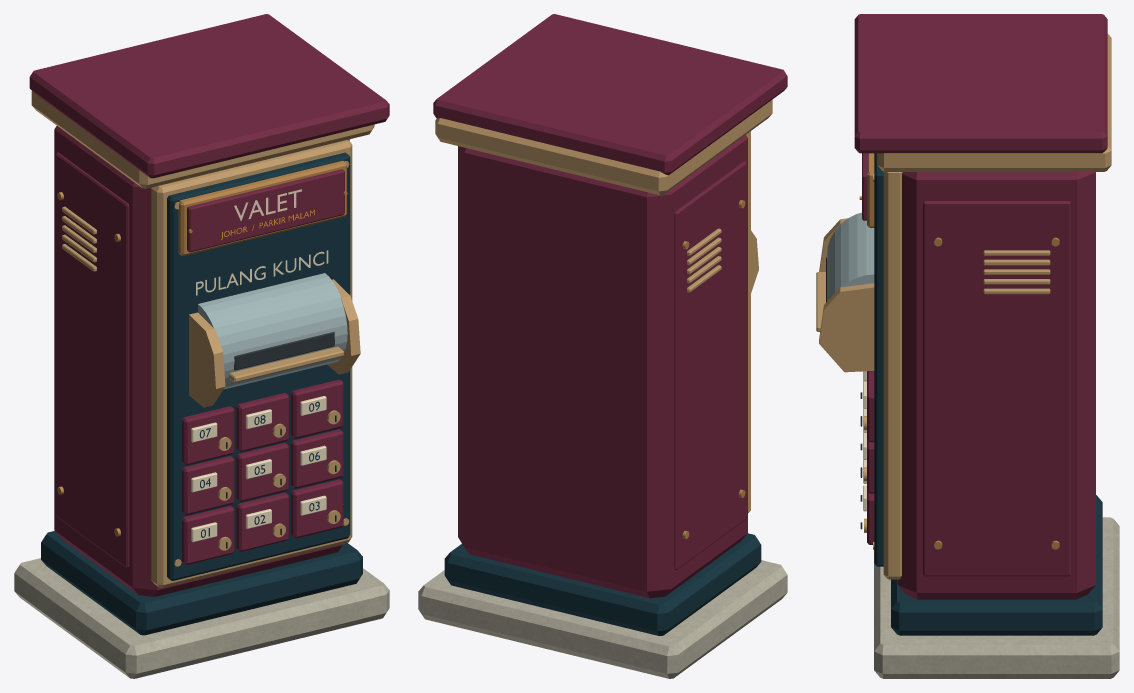
3 renders of one model, left to right at view 1: azimuth 30°, elevation 25°; view 2: azimuth 150°, elevation 25°; view 3: azimuth 270°, elevation 25°, orthographic. The views are drawn at different scales.
Parts seen in each view (by area): view 1: Rain hood, Side access skins, Inset face, Key pickup doors, Car park installation plinth, Tamper resistant trunk, Vault jamb base, Framed front door, Rotary key drop, Enamel plaque field, Drip moulding, Bronze hopper cheeks (+7 smaller); view 2: Tamper resistant trunk, Rain hood, Side access skins, Car park installation plinth, Vault jamb base, Drip moulding, Side gills, Framed front door; view 3: Side access skins, Rain hood, Tamper resistant trunk, Car park installation plinth, Vault jamb base, Framed front door, Drip moulding, Bronze hopper cheeks, Inset face, Rotary key drop, Side gills, Key pickup doors (+3 smaller).
Part boxes in pixels (x1,y1,x2,y2): Rain hood: (29, 14, 389, 178); Side access skins: (55, 152, 129, 568); Inset face: (167, 152, 350, 580); Key pickup doors: (182, 379, 343, 564); Car park installation plinth: (14, 558, 389, 678); Tamper resistant trunk: (54, 126, 349, 596); Vault jamb base: (41, 531, 362, 635); Framed front door: (151, 140, 352, 587); Rotary key drop: (198, 273, 347, 389); Enamel plaque field: (187, 169, 344, 252); Drip moulding: (31, 91, 374, 188); Bronze hopper cheeks: (189, 279, 360, 407); Tamper resistant trunk: (458, 135, 747, 598); Rain hood: (433, 14, 787, 175); Side access skins: (674, 161, 746, 569); Car park installation plinth: (418, 560, 787, 678); Vault jamb base: (444, 533, 761, 635); Drip moulding: (435, 99, 772, 195); Side gills: (687, 228, 721, 292); Framed front door: (746, 131, 750, 512); Side access skins: (923, 201, 1070, 576); Rain hood: (854, 14, 1107, 153); Tamper resistant trunk: (897, 172, 1095, 599); Car park installation plinth: (874, 517, 1119, 678); Vault jamb base: (891, 495, 1102, 635); Framed front door: (883, 172, 902, 579); Drip moulding: (877, 33, 1111, 171); Bronze hopper cheeks: (819, 218, 874, 372); Inset face: (874, 153, 883, 566); Rotary key drop: (826, 212, 874, 300); Side gills: (983, 250, 1050, 294); Key pickup doors: (867, 371, 874, 544).
Size of the model in its own units: 0.92 by 1.75 by 0.8895.
Materials: 9 (1 with a texture image).
